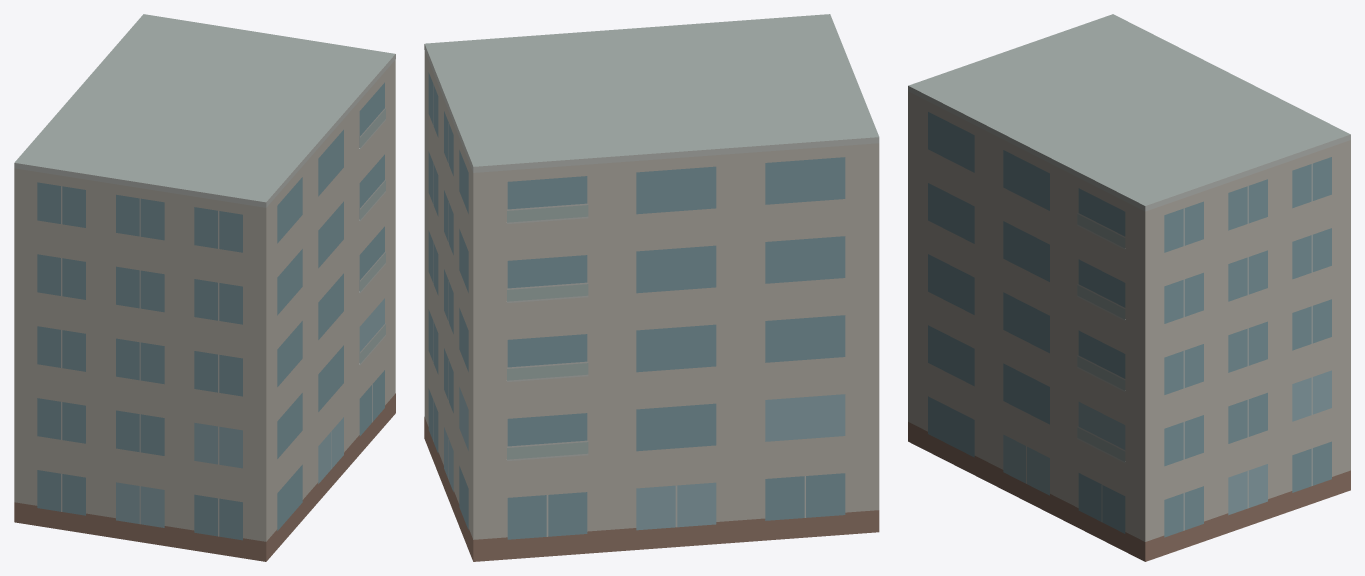
File: survey-upis-32535309.glb
The picture shows the model from 3 angles, left to right: view 1: azimuth 30°, elevation 25°; view 2: azimuth 150°, elevation 25°; view 3: azimuth 270°, elevation 25°; orthographic projection. The views are drawn at different scales.
Visible parts, largest first — view 1: survey-upis-32535309.tmp; view 2: survey-upis-32535309.tmp; view 3: survey-upis-32535309.tmp.
Boxes of the visible parts, x1,y1,x2,y2 form: survey-upis-32535309.tmp: (14, 14, 395, 561); survey-upis-32535309.tmp: (424, 14, 879, 561); survey-upis-32535309.tmp: (908, 14, 1350, 561).
Bounding box in the file's own units: 18.3 × 15.8 × 17.83.
